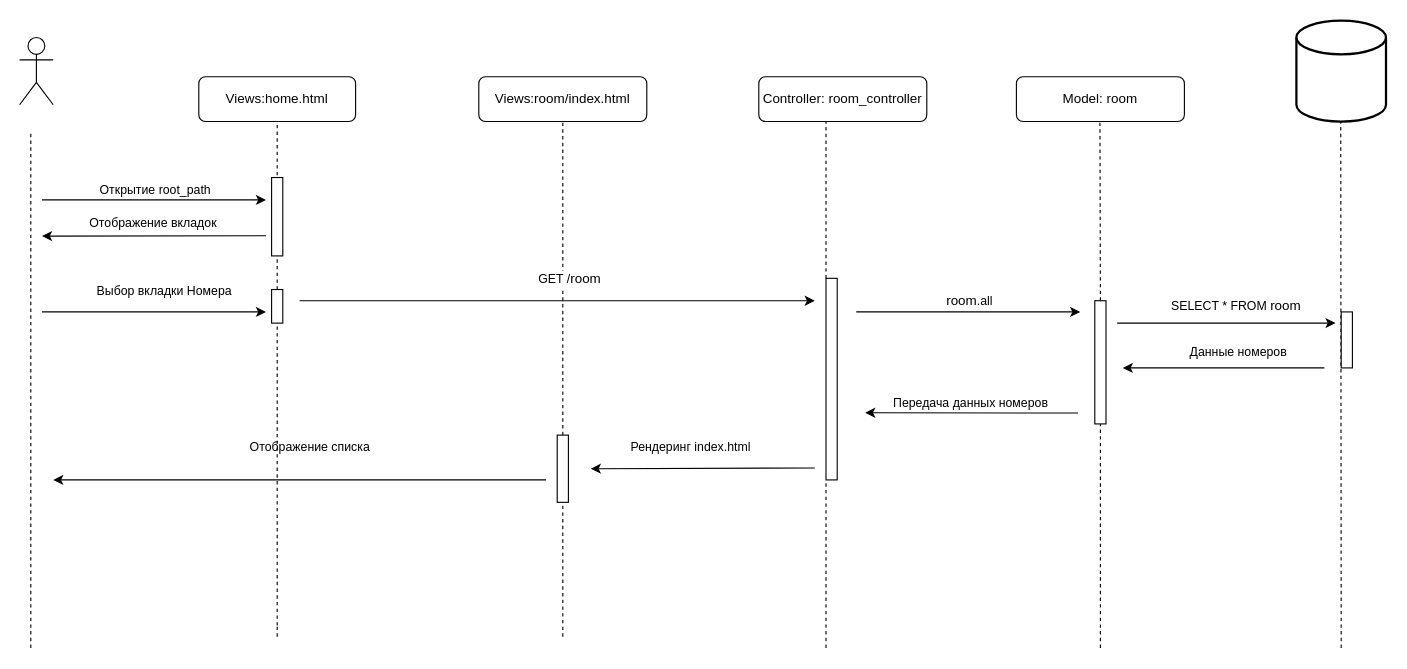
Image size: 1407x669. Some labels were removed from this diagram. Each missing label, with the centre of its shape:
DB: pixel 1341 70
User: pixel 35 70
